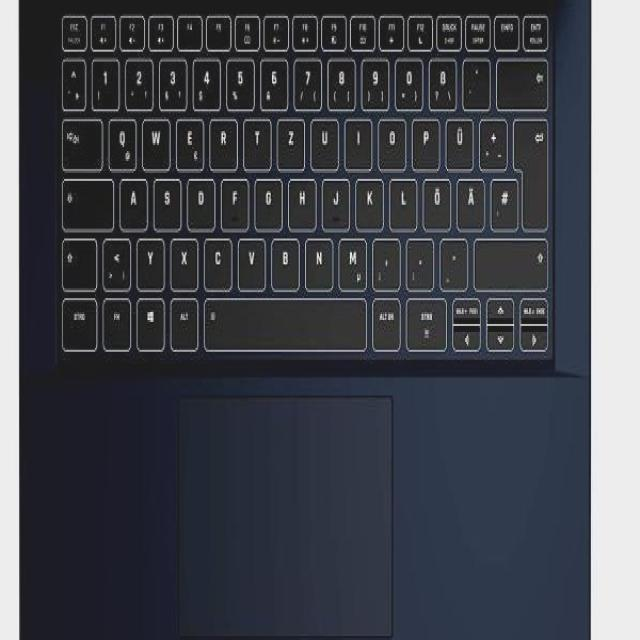0: (392, 52, 422, 106)
1: (89, 52, 118, 106)
2: (121, 52, 152, 106)
3: (155, 52, 185, 106)
4: (190, 52, 219, 106)
5: (223, 52, 253, 106)
6: (257, 52, 286, 106)
7: (290, 52, 320, 106)
8: (324, 52, 353, 106)
9: (358, 52, 388, 106)
a: (116, 171, 146, 225)
accent: (459, 52, 488, 104)
ae: (453, 171, 482, 225)
alt-left: (167, 290, 197, 346)
altgr-right: (369, 290, 399, 346)
b: (268, 231, 298, 287)
c: (201, 231, 231, 287)
caret: (59, 52, 85, 106)
comma: (369, 231, 398, 287)
d: (184, 171, 214, 225)
del: (494, 52, 546, 104)
e: (173, 111, 202, 165)
enter: (509, 109, 547, 227)
f: (218, 171, 247, 225)
g: (251, 171, 281, 225)
h: (285, 171, 314, 225)
hash: (488, 171, 516, 225)
i: (341, 111, 370, 163)
j: (319, 171, 347, 225)
k: (352, 171, 382, 225)
keyboard: (45, 0, 559, 368)
l: (386, 171, 415, 225)
less: (98, 231, 129, 287)
m: (335, 231, 365, 287)
minus: (435, 231, 465, 285)
n: (302, 231, 331, 287)
o: (375, 111, 405, 165)
oe: (419, 171, 449, 225)
p: (409, 111, 438, 165)
plus: (476, 111, 505, 165)
point: (403, 231, 432, 285)
q: (105, 111, 135, 165)
r: (206, 111, 236, 165)
s: (150, 171, 180, 227)
shift-left: (61, 235, 97, 291)
shift-lock: (61, 177, 115, 231)
shift-right: (472, 235, 549, 291)
space: (201, 290, 364, 348)
ss: (426, 52, 455, 106)
strg-left: (58, 290, 96, 346)
strg-right: (405, 294, 447, 350)
t: (240, 111, 269, 165)
tab: (58, 111, 100, 165)
u: (307, 111, 337, 165)
ue: (442, 111, 472, 165)
v: (235, 231, 264, 285)
w: (139, 111, 169, 165)
x: (168, 231, 197, 287)
y: (133, 231, 162, 287)
z: (274, 111, 303, 165)
